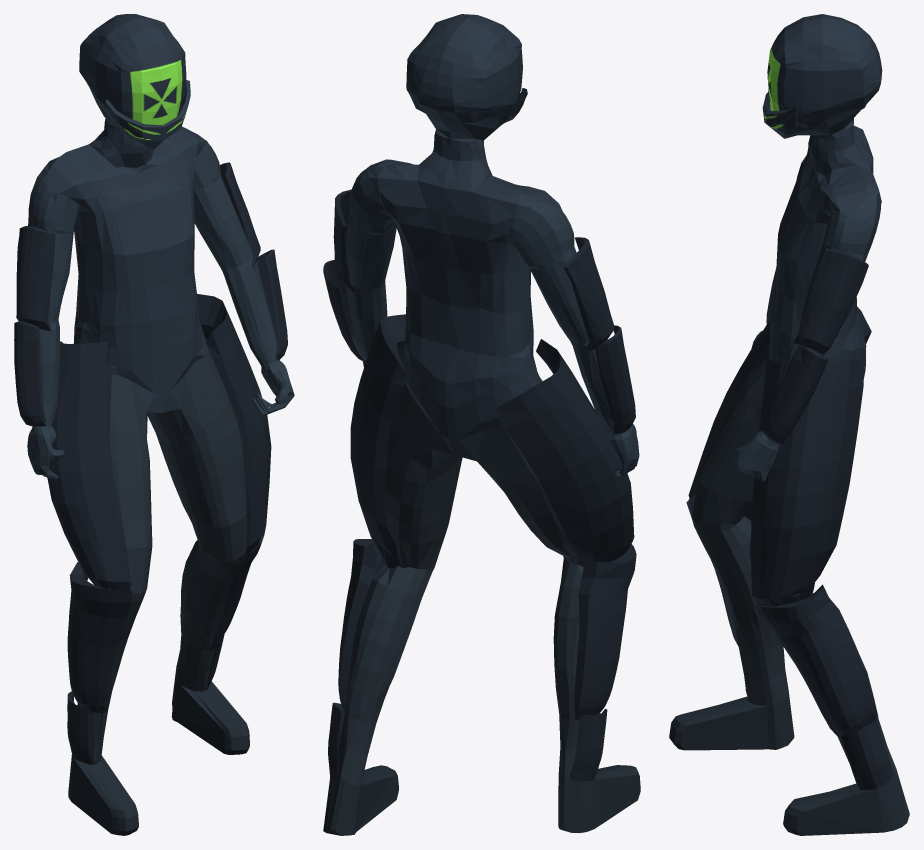
Rendered from Bastion_Stun_Recover_000016.obj.
3 renders of one model, left to right at view 1: azimuth 30°, elevation 25°; view 2: azimuth 150°, elevation 25°; view 3: azimuth 270°, elevation 25°, orthographic. The views are drawn at different scales.
Visible parts, largest first — view 1: Cube.002; view 2: Cube.002; view 3: Cube.002.
Part boxes in pixels (<box>): Cube.002: <box>14,14,294,835</box>; Cube.002: <box>323,14,640,835</box>; Cube.002: <box>669,14,909,835</box>.
Size of the model in its own units: 1.43 by 3.78 by 1.07.
